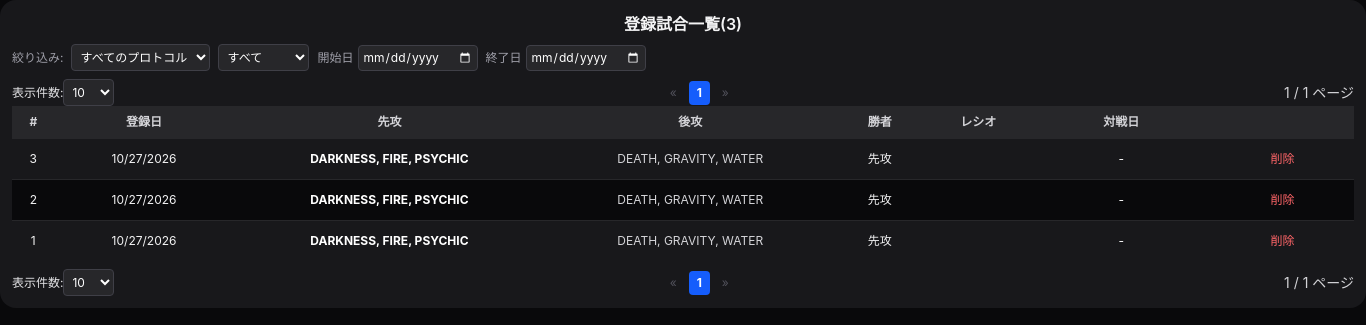
Test case: MatchList › delete flow › 複数行のうち1件だけ確認状態になる
2行目の削除をクリック
Click the 2nd button "削除".
click(1282, 200)  # box 1262,188 -> 1302,212
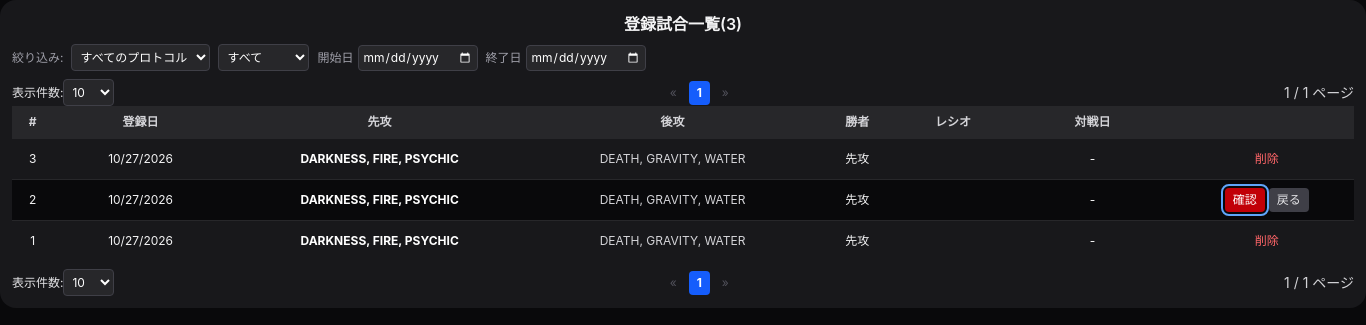
Check: the number of buttons "確認" is 1, box 1225,188 -> 1265,212
Check: the number of buttons "戻る" is 1, box 1269,188 -> 1309,212
Check: the number of buttons "削除" is 2, box 1247,147 -> 1287,171; 1247,229 -> 1287,253
